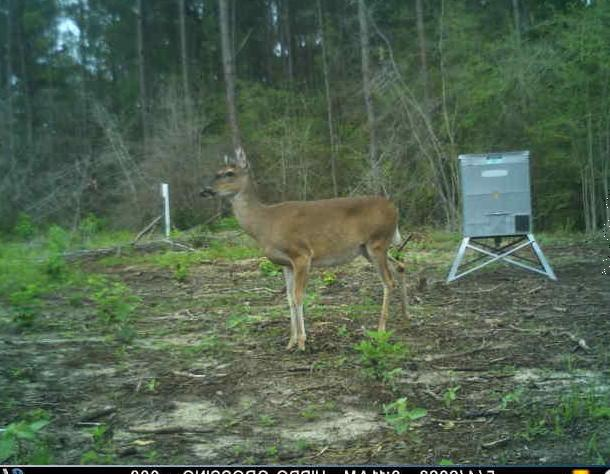Deer: (198, 144, 417, 354), (602, 190, 610, 279)
